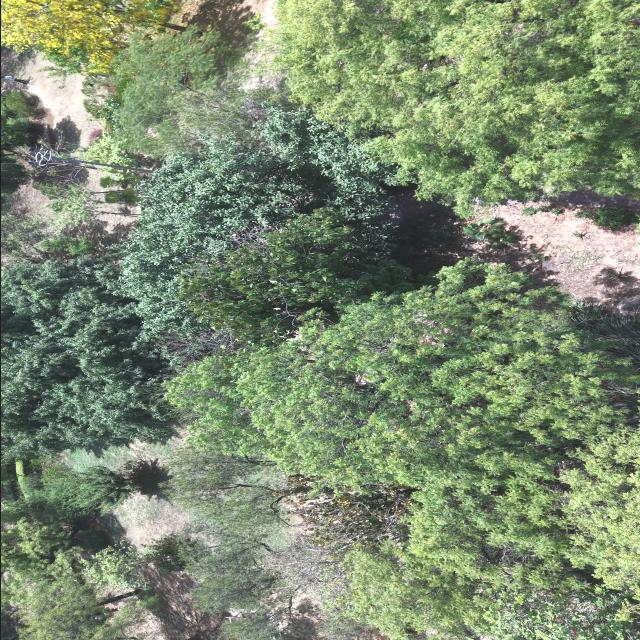DRY_AREA: (393, 188, 639, 313), (444, 191, 639, 312), (452, 192, 639, 312), (479, 191, 639, 310), (477, 200, 639, 312), (1, 49, 100, 149), (1, 49, 99, 148), (174, 0, 282, 89), (1, 49, 100, 146), (172, 0, 278, 86), (146, 567, 228, 639), (175, 0, 277, 42), (61, 438, 179, 470)
VEGETATION_TREE: (1, 0, 639, 639), (124, 166, 638, 610), (166, 261, 639, 637), (167, 261, 639, 637), (167, 261, 634, 484), (86, 30, 381, 334), (275, 0, 639, 207), (1, 220, 168, 637), (121, 102, 391, 338), (1, 259, 169, 459), (179, 210, 414, 344), (165, 445, 307, 639), (1, 461, 155, 639), (84, 27, 262, 163), (84, 27, 227, 167), (1, 518, 156, 639), (100, 27, 226, 156), (559, 423, 639, 589), (1, 0, 185, 72), (182, 525, 296, 639), (165, 445, 296, 535), (14, 552, 139, 639), (282, 475, 415, 553), (146, 86, 279, 158), (17, 142, 125, 228), (17, 461, 163, 520), (184, 527, 279, 612), (485, 588, 638, 639), (20, 575, 139, 639), (264, 535, 347, 602), (46, 463, 160, 511), (85, 536, 183, 588), (20, 604, 157, 639), (16, 140, 97, 197), (1, 518, 72, 580), (44, 185, 140, 227), (1, 92, 40, 195), (44, 199, 140, 227), (1, 215, 52, 266), (222, 606, 297, 639), (84, 135, 153, 167), (1, 498, 76, 524), (81, 72, 116, 126), (316, 613, 384, 639), (462, 216, 517, 248), (1, 95, 32, 149), (36, 182, 120, 200), (143, 536, 184, 572), (575, 207, 638, 230), (87, 94, 120, 134), (38, 236, 96, 255), (5, 91, 42, 119), (1, 160, 28, 196), (15, 460, 40, 497), (73, 529, 110, 553), (1, 460, 20, 501), (1, 603, 19, 639), (104, 188, 137, 204), (522, 205, 563, 216), (100, 177, 133, 188), (522, 206, 549, 216), (89, 129, 103, 143), (573, 232, 587, 240), (549, 208, 563, 215)
